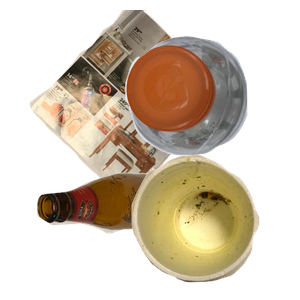glass: (34, 170, 223, 300)
paper: (27, 10, 230, 190)
plastic: (123, 33, 300, 181)
trash: (129, 152, 300, 300)
